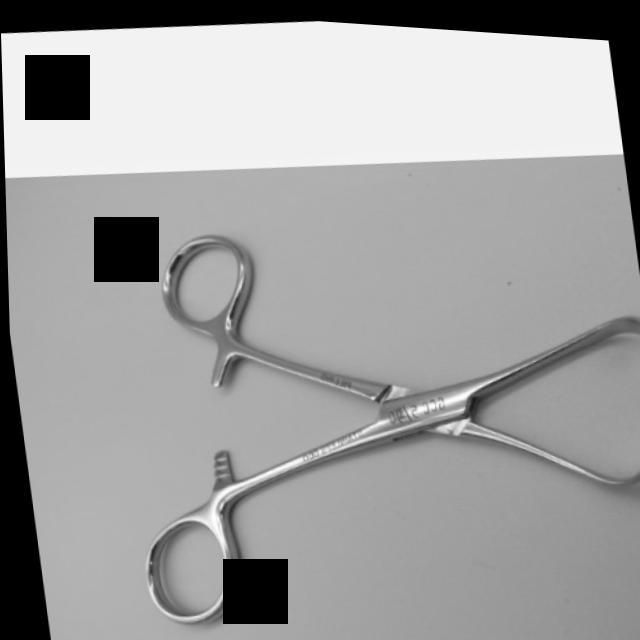Backhaus Towel Clamp: (88, 175, 640, 640)
